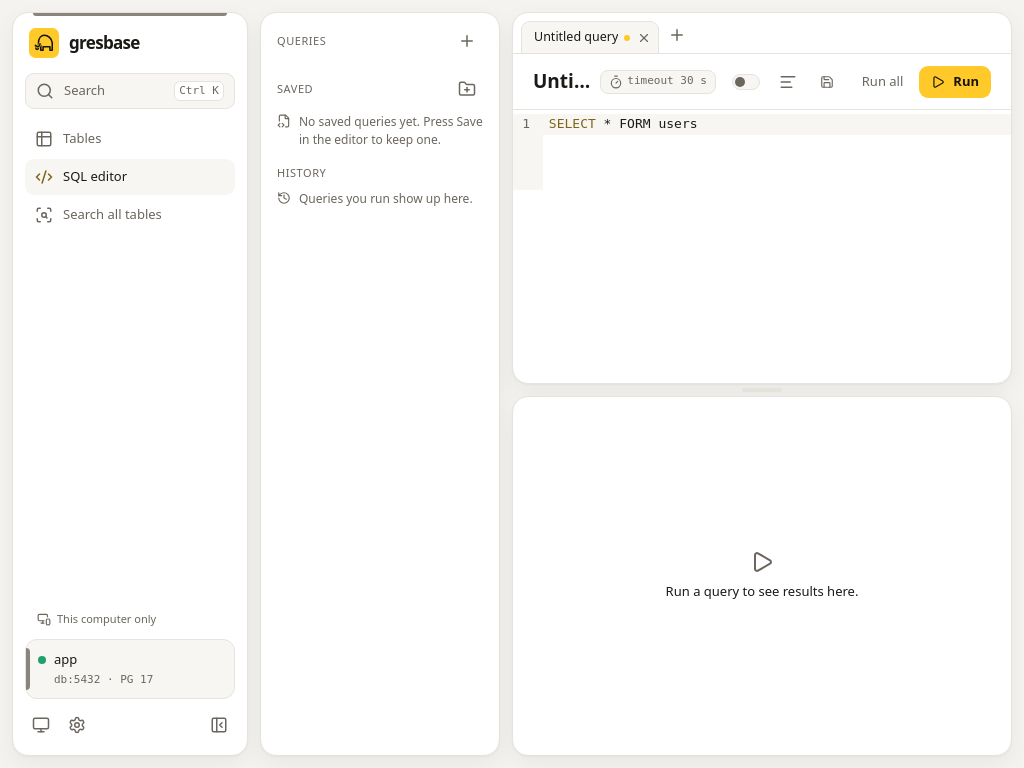
Test: SQL editor › shows the Postgres error and marks its position in the editor
The width and height of the screenshot is (1024, 768).
Click the button "Run" at (955, 82), box 919,66 -> 991,98
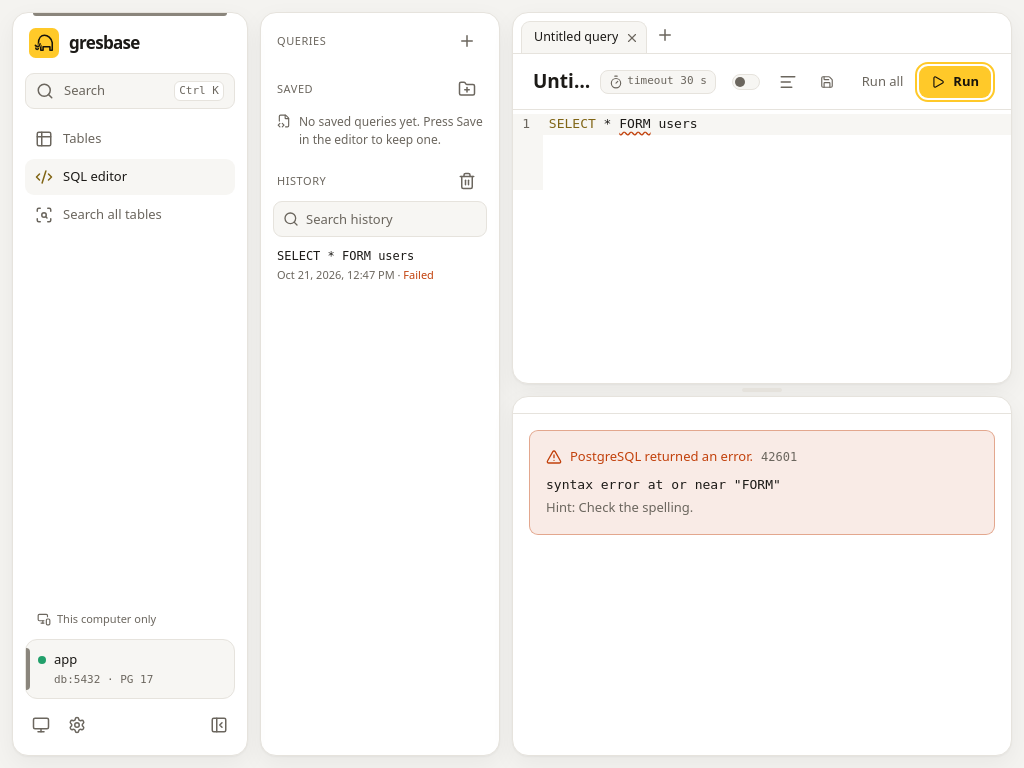
Result: the message that starts with "PostgreSQL returned an error." shows "syntax error at or near \"FORM\"" at 546,476 -> 781,492
Result: the message that starts with "PostgreSQL returned an error." shows "42601" at 761,450 -> 797,464
Result: the message that starts with "PostgreSQL returned an error." shows "Check the spelling." at 579,498 -> 693,516
